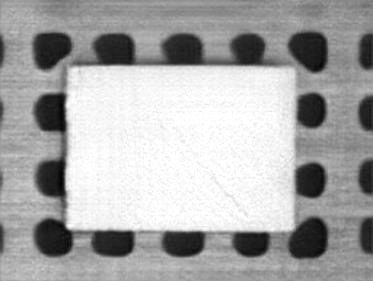DIE_CRACK: (202, 166, 248, 219)
